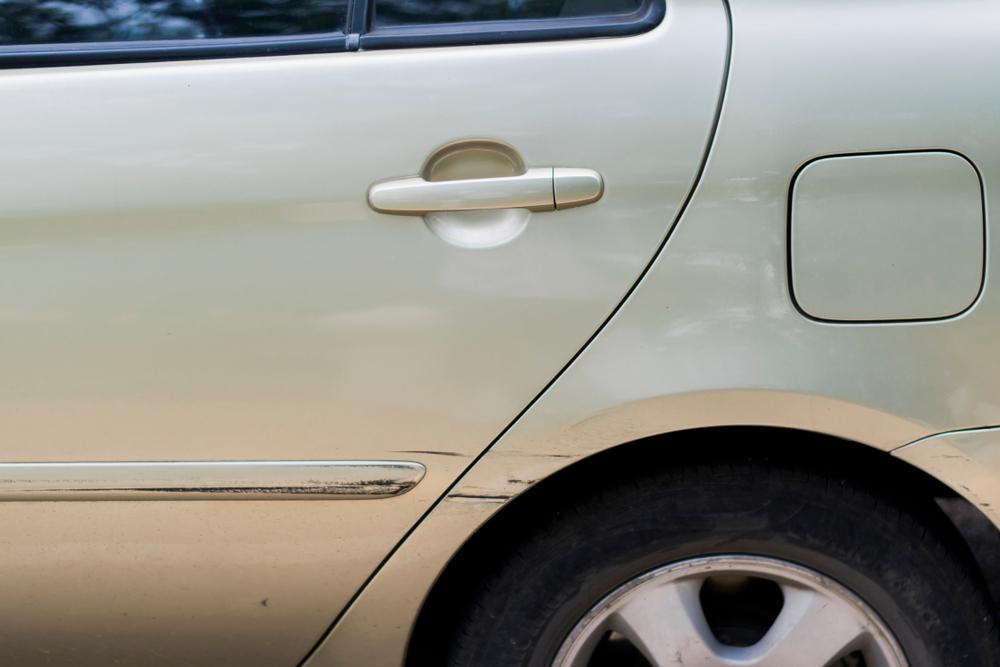scratch: (0, 444, 484, 501), (443, 442, 592, 502)
